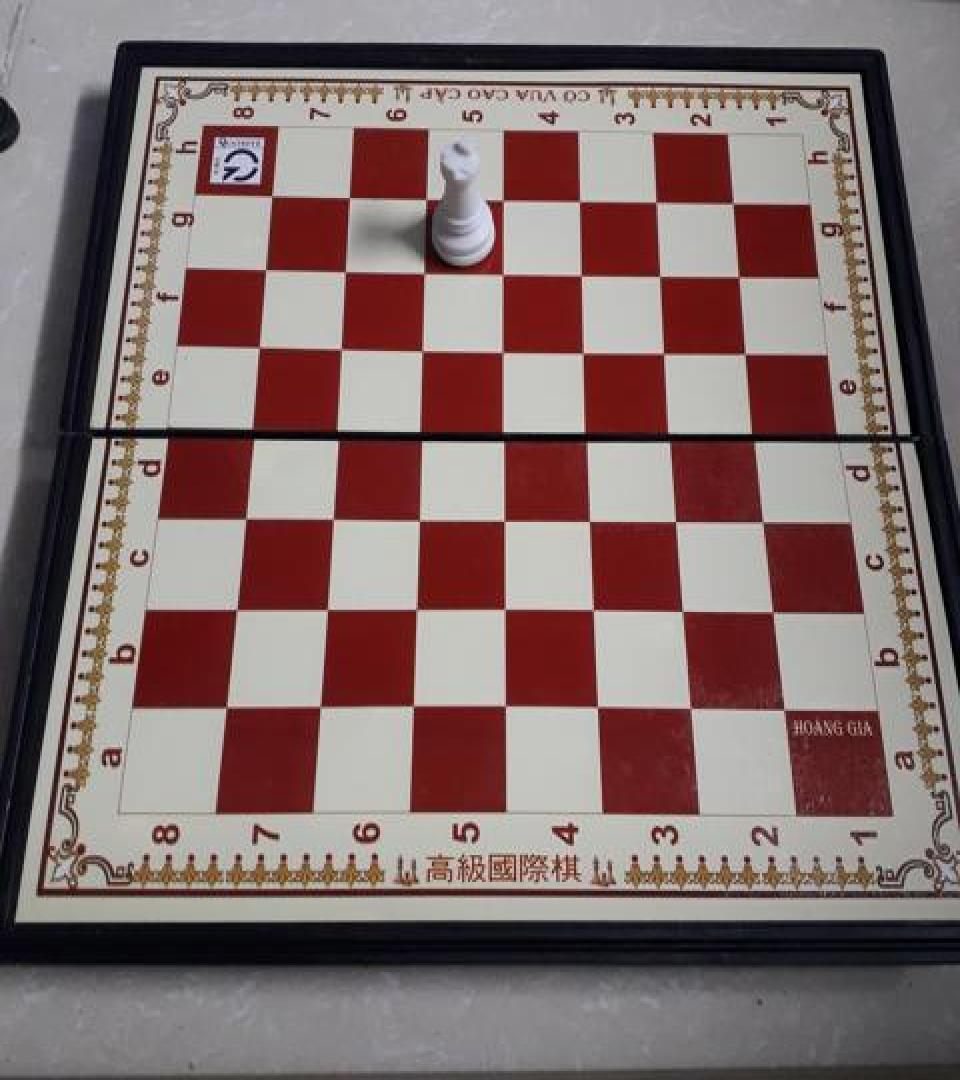xcorner: (490, 688, 522, 725), (583, 689, 615, 726), (675, 689, 707, 726), (310, 588, 342, 625), (210, 686, 242, 722), (304, 688, 336, 724), (397, 688, 429, 724), (767, 691, 799, 727), (219, 587, 251, 623), (400, 590, 432, 626), (490, 590, 522, 626), (580, 590, 612, 626), (669, 592, 701, 628), (758, 593, 790, 629), (227, 495, 259, 531), (315, 496, 347, 532), (403, 497, 435, 533), (490, 497, 522, 533), (577, 498, 609, 534), (663, 500, 695, 536), (749, 500, 781, 536), (235, 407, 267, 443), (320, 408, 352, 444), (405, 410, 437, 446), (490, 412, 522, 448), (574, 413, 606, 449), (658, 414, 690, 450), (741, 415, 773, 451), (243, 326, 275, 362), (325, 328, 357, 364), (490, 330, 522, 366), (571, 331, 603, 367), (652, 333, 684, 369), (733, 334, 765, 370), (250, 248, 282, 284), (330, 251, 362, 287), (410, 252, 442, 288), (489, 253, 521, 289), (569, 254, 601, 290), (648, 256, 680, 292), (726, 258, 758, 294), (257, 176, 289, 212), (334, 178, 366, 214), (412, 180, 444, 216), (489, 181, 521, 217), (566, 182, 598, 218), (643, 184, 675, 220), (408, 329, 440, 364), (719, 186, 751, 221)
